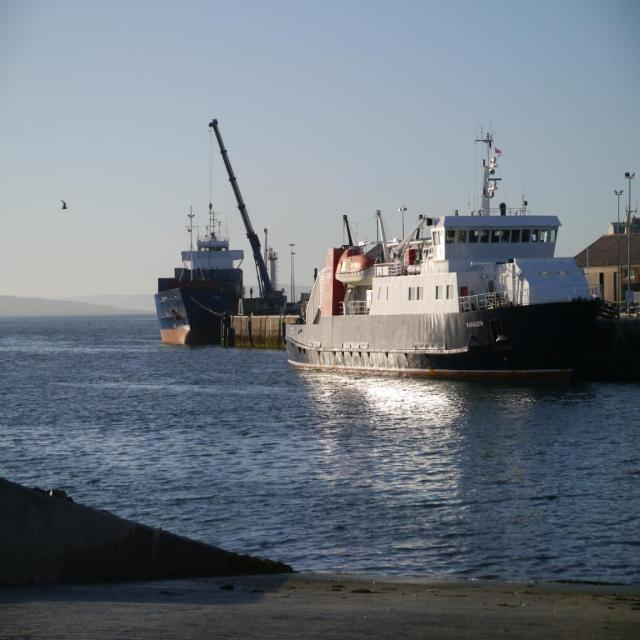Boat: (276, 100, 608, 370), (154, 183, 248, 348)
